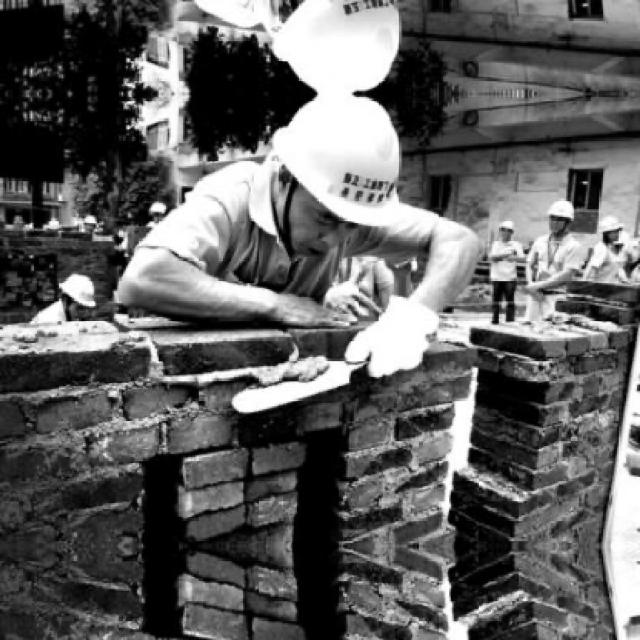helmet: (258, 92, 418, 258), (257, 0, 418, 94), (56, 269, 98, 311), (544, 195, 576, 234), (597, 214, 626, 246), (497, 215, 518, 243)
